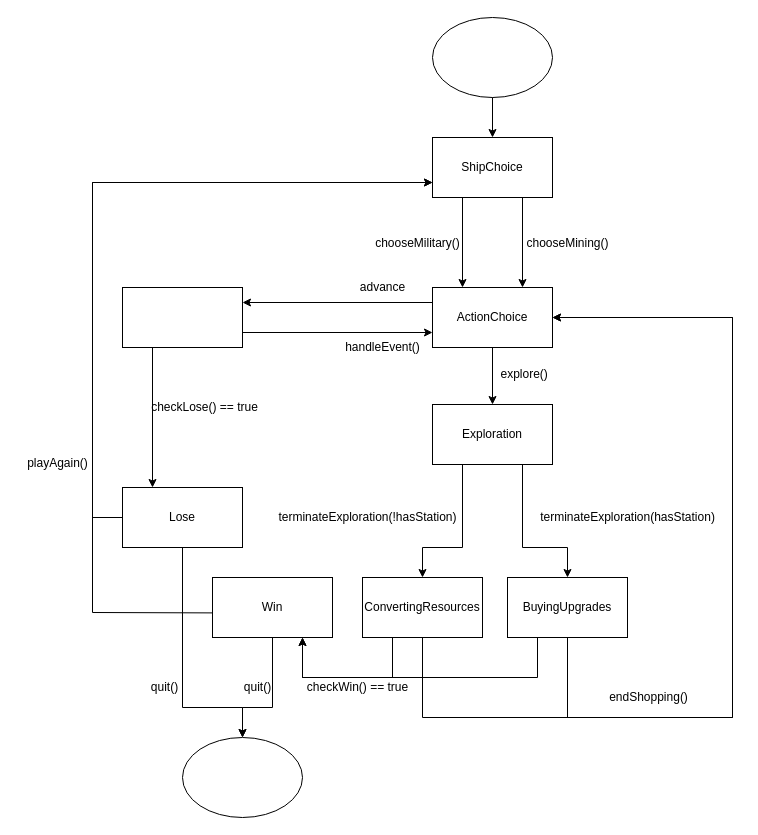
Some shapes in this 758 by 835 pixel diagram are drawn without their labels. The shapes that lost their labels are listed below. From the top down, each one's centre as x and y in pixels, then its label:
At (492,57): "START".
At (182,317): "HandlingEvent".
At (242,777): "End".
